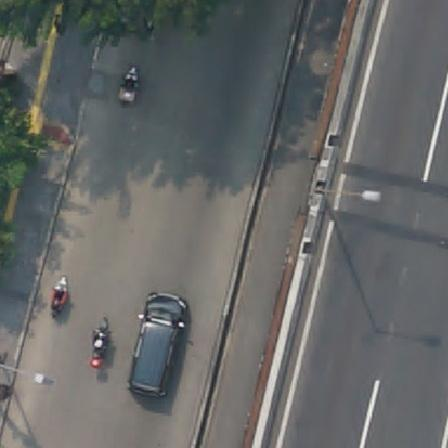Car: (129, 295, 184, 400)
Motorcycle: (114, 69, 139, 104), (92, 327, 111, 371), (54, 277, 68, 314)
